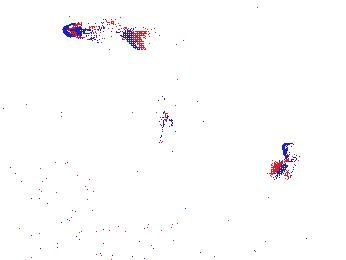redtail glassfish: (61, 15, 151, 54), (266, 141, 307, 192), (147, 94, 180, 142)
